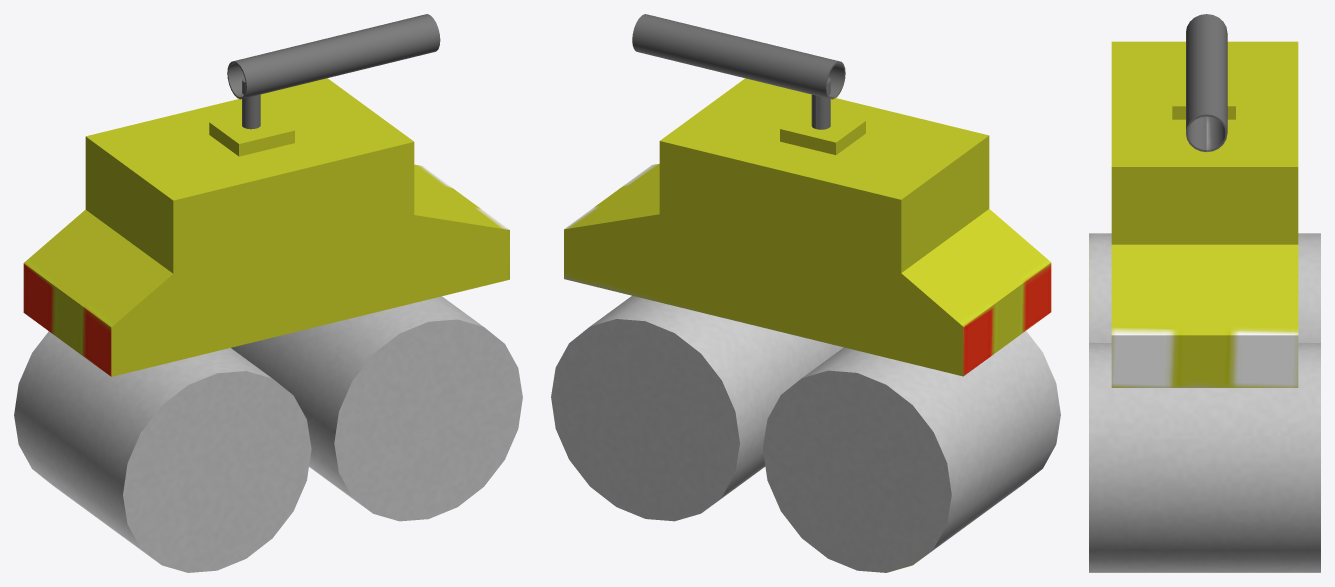
File: Roller_corrected.fbx
The picture shows the model from 3 angles, left to right: view 1: azimuth 30°, elevation 25°; view 2: azimuth 150°, elevation 25°; view 3: azimuth 270°, elevation 25°; orthographic projection. The views are drawn at different scales.
Visible parts, largest first — view 1: body_low, BackRoller_low, FrontRoller_low, cannon_low, mount_low; view 2: body_low, BackRoller_low, FrontRoller_low, cannon_low, mount_low; view 3: body_low, FrontRoller_low, cannon_low, BackRoller_low.
Part boxes in pixels (bbox=[...]): body_low: bbox=[23, 78, 509, 376]; BackRoller_low: bbox=[14, 331, 311, 572]; FrontRoller_low: bbox=[231, 296, 522, 521]; cannon_low: bbox=[227, 14, 440, 99]; mount_low: bbox=[242, 76, 260, 129]; body_low: bbox=[564, 78, 1051, 376]; BackRoller_low: bbox=[763, 331, 1060, 572]; FrontRoller_low: bbox=[551, 295, 843, 521]; cannon_low: bbox=[632, 14, 845, 99]; mount_low: bbox=[811, 77, 830, 129]; body_low: bbox=[1111, 41, 1298, 387]; FrontRoller_low: bbox=[1089, 343, 1320, 572]; cannon_low: bbox=[1186, 14, 1227, 152]; BackRoller_low: bbox=[1089, 233, 1320, 342].
Size of the model in its own units: 4.25 by 4.55 by 2.
1 material, 1 textured.
